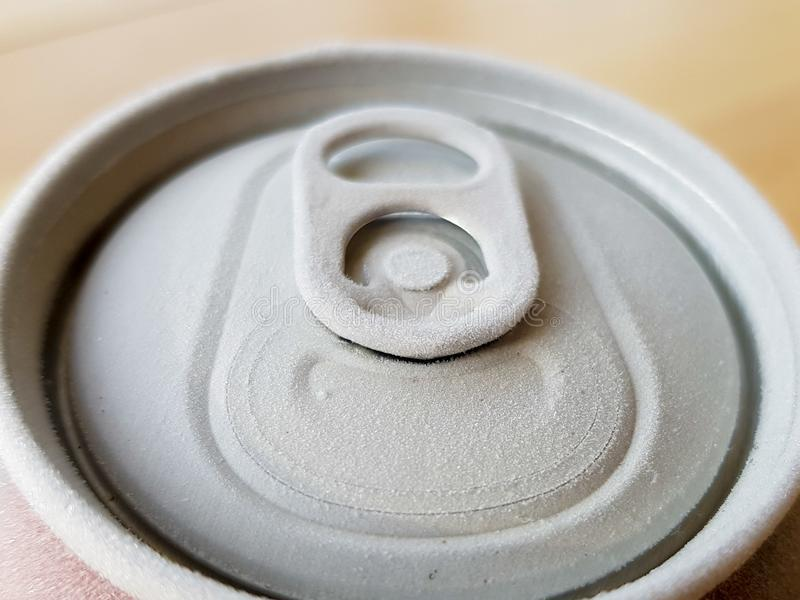can: (3, 44, 800, 600)
